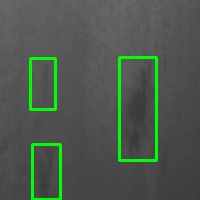inclusion: (119, 57, 156, 160), (32, 144, 60, 199), (30, 58, 55, 109)
